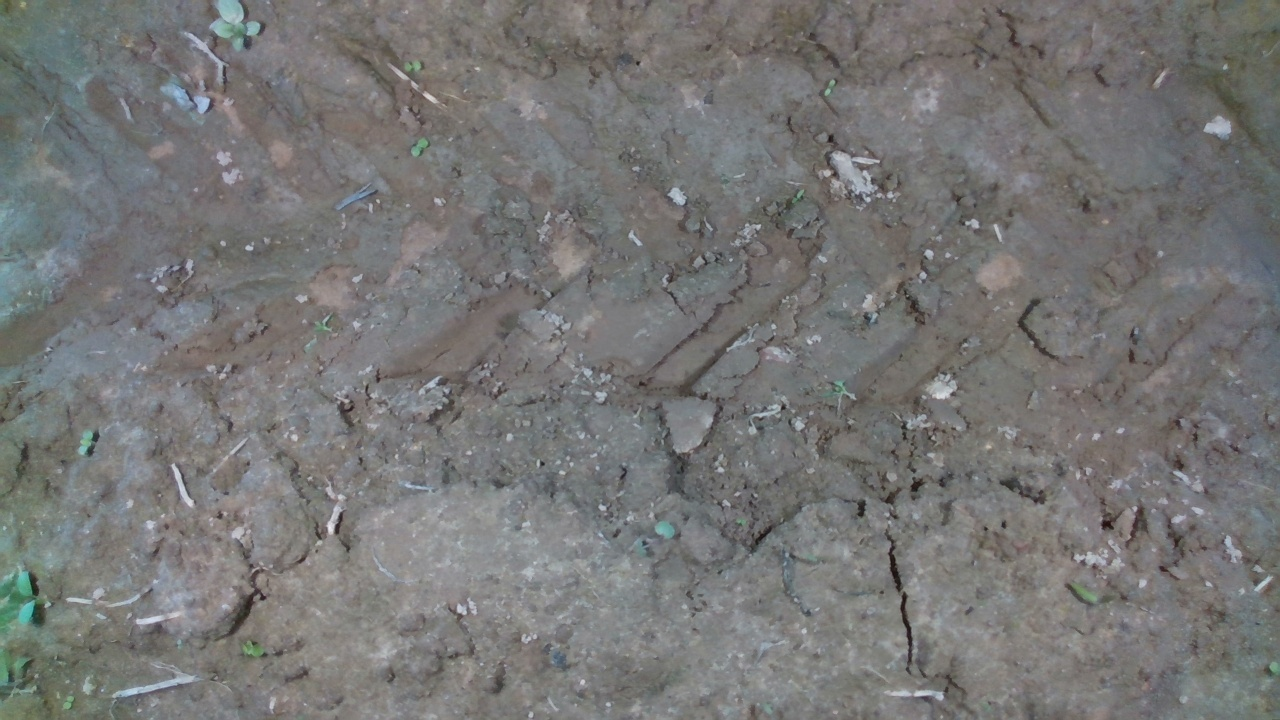weed: (76, 427, 94, 457), (409, 137, 429, 158), (402, 57, 422, 72), (823, 77, 837, 97), (788, 188, 805, 204)
